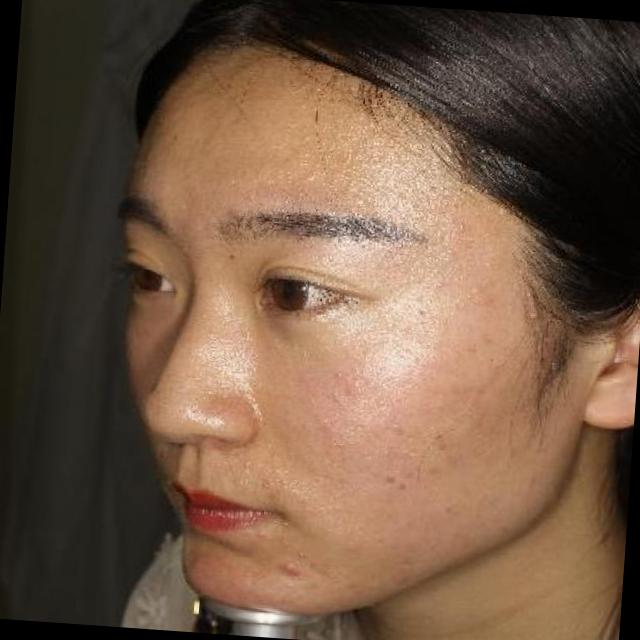nodules: (276, 556, 304, 582), (274, 512, 292, 530), (291, 546, 309, 562), (272, 476, 292, 488)
